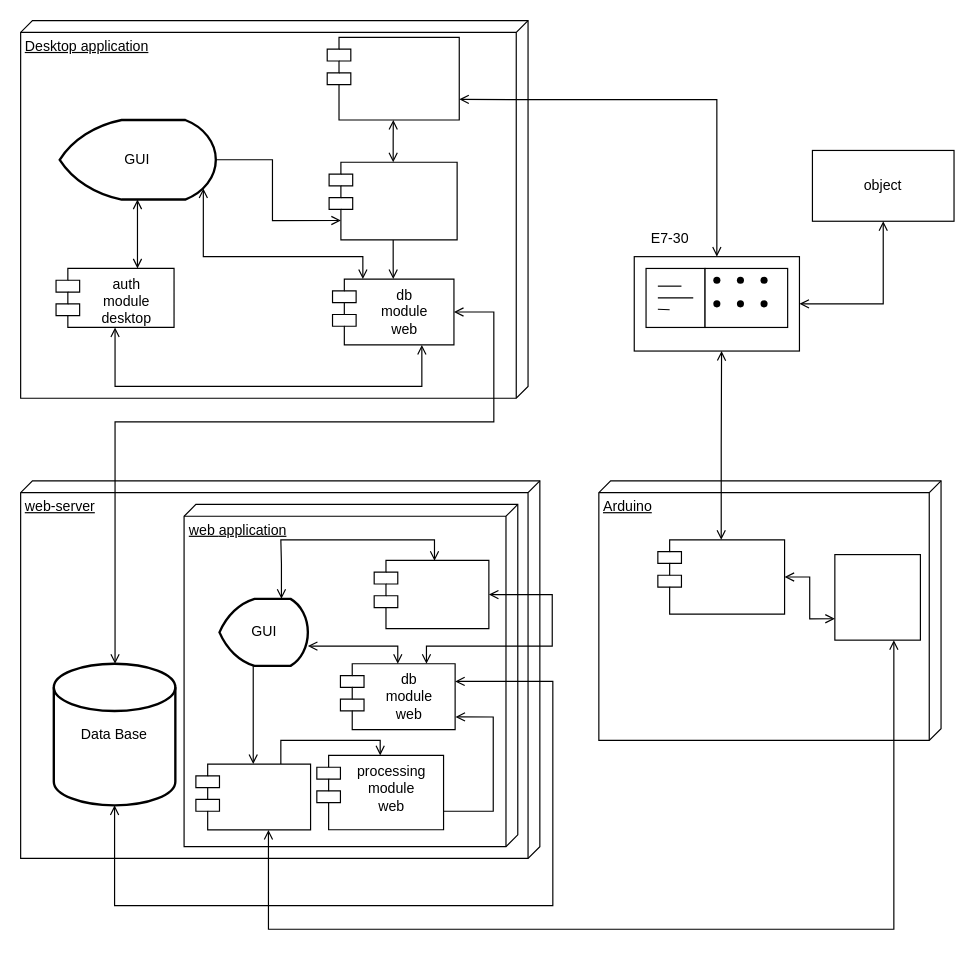
This 975x961 diagram has some shape labels left out. Here are the shapes that lost their labels. From the top down, the centre of each, then its label:
At (392,78): "processing module desktop".
At (392,200): "collection module desktop".
At (431,594): "auth module web".
At (721,576): "communicate module web".
At (877,596): "wi-fi module".
At (253,796): "collection module web".
